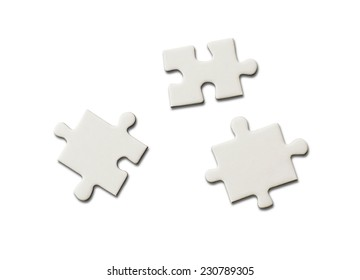puzzle piece: (193, 108, 317, 216), (46, 101, 153, 217), (162, 37, 261, 109)
